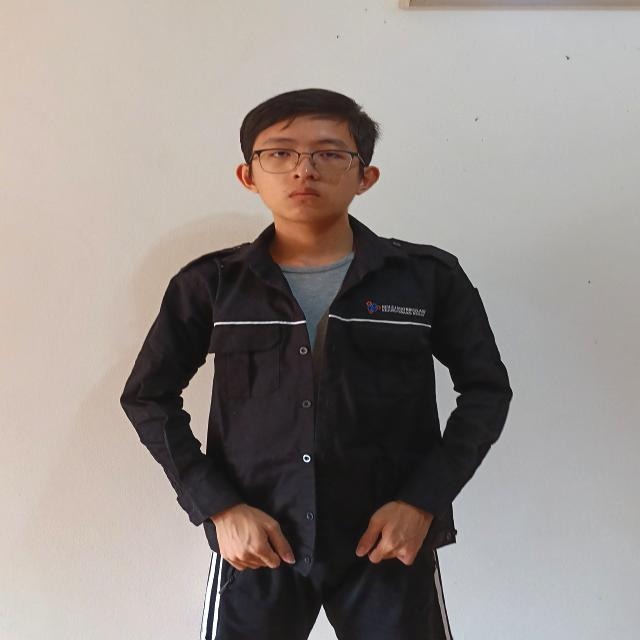person_with_labcoat: (122, 89, 511, 640)
